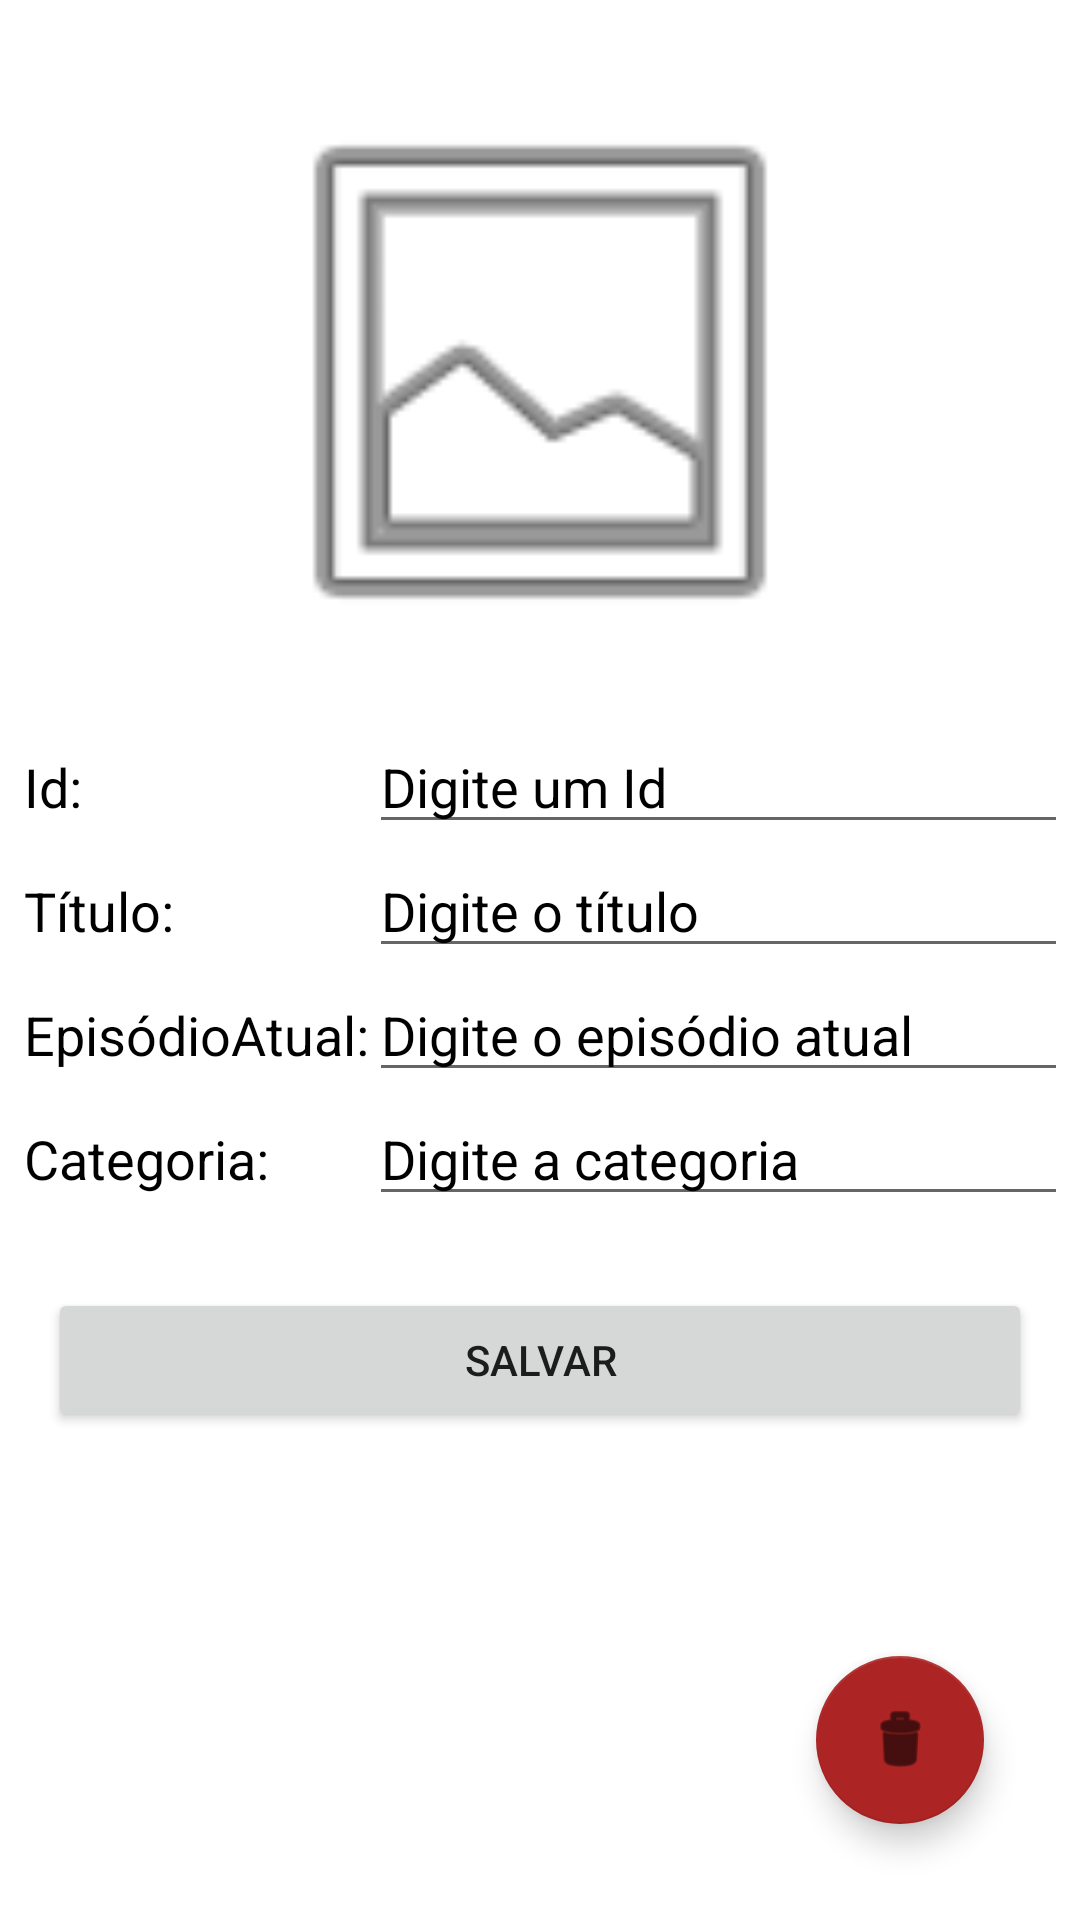

Icon click points for this 1080x1920 phone screenshot, format [x,y]:
delete: [900,1740]
